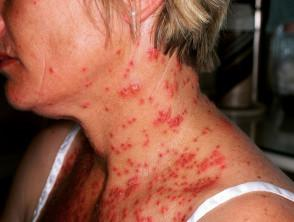Eczema: (151, 104, 185, 134), (67, 189, 93, 222), (174, 172, 209, 195), (162, 162, 194, 185), (190, 157, 217, 181), (121, 200, 155, 219), (115, 80, 135, 112), (107, 184, 128, 214), (164, 185, 189, 209), (234, 136, 260, 159), (93, 200, 120, 222), (206, 144, 230, 167), (151, 150, 184, 166), (123, 154, 149, 173), (51, 157, 76, 176), (184, 125, 204, 147), (142, 184, 169, 200), (120, 180, 146, 196), (108, 159, 128, 179), (218, 114, 238, 134), (66, 140, 86, 160), (125, 84, 146, 103), (199, 121, 219, 140), (150, 161, 167, 183), (81, 176, 97, 198), (105, 126, 119, 151), (137, 124, 152, 147), (159, 77, 176, 97), (98, 82, 116, 100), (180, 143, 198, 161), (155, 196, 173, 214), (238, 156, 257, 173), (172, 206, 192, 222), (47, 65, 69, 79), (41, 95, 58, 112), (148, 46, 161, 67), (116, 66, 134, 81), (172, 57, 190, 72), (117, 140, 136, 154), (181, 194, 201, 207), (128, 57, 145, 72), (123, 118, 142, 131), (254, 173, 271, 187), (75, 98, 96, 109), (78, 61, 94, 75), (15, 41, 31, 55), (105, 65, 120, 79), (109, 47, 127, 58), (129, 38, 144, 51), (256, 191, 271, 204), (81, 80, 95, 93), (204, 107, 217, 121), (176, 77, 194, 87), (145, 88, 154, 108), (145, 23, 155, 40), (186, 92, 198, 106), (104, 102, 112, 123), (12, 95, 28, 104), (157, 137, 171, 147), (202, 97, 212, 107), (30, 0, 37, 6)
